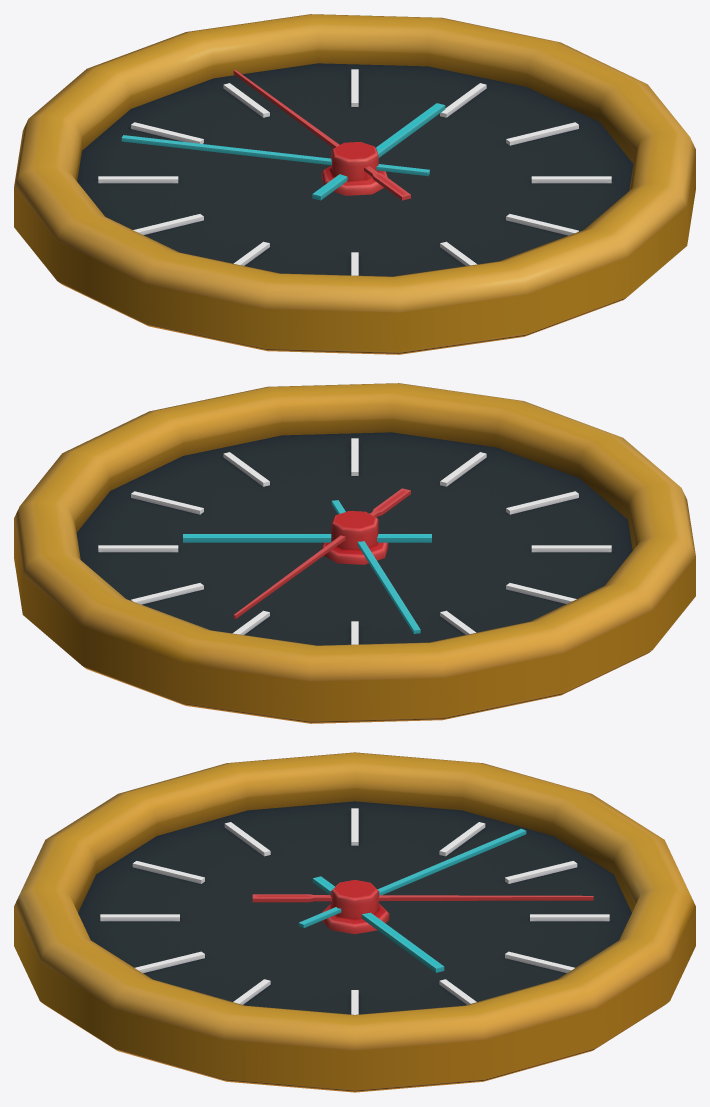
The model's file is Stylized Wall Clock.fbx.
3 renders of one model, top to bottom at view 1: azimuth 30°, elevation 25°; view 2: azimuth 150°, elevation 25°; view 3: azimuth 270°, elevation 25°, orthographic.
Parts seen in each view (by area): view 1: Clock Base_low, Clock Face_low, Center Hub_low, Minute Hand_low, Second Hand_low, Hour Hand_low; view 2: Clock Base_low, Clock Face_low, Center Hub_low, Hour Hand_low, Second Hand_low, Minute Hand_low; view 3: Clock Base_low, Clock Face_low, Center Hub_low, Second Hand_low, Minute Hand_low, Hour Hand_low.
Boxes of the visible parts, left/top/right/bottom form: Clock Base_low: left=14, top=14, right=695, bottom=354; Clock Face_low: left=98, top=69, right=611, bottom=275; Center Hub_low: left=321, top=142, right=387, bottom=195; Minute Hand_low: left=121, top=135, right=429, bottom=176; Second Hand_low: left=233, top=70, right=410, bottom=200; Hour Hand_low: left=312, top=103, right=445, bottom=200; Clock Base_low: left=14, top=383, right=695, bottom=723; Clock Face_low: left=98, top=438, right=611, bottom=644; Center Hub_low: left=321, top=511, right=388, bottom=564; Hour Hand_low: left=183, top=534, right=431, bottom=542; Second Hand_low: left=233, top=488, right=410, bottom=618; Minute Hand_low: left=331, top=500, right=420, bottom=633; Clock Base_low: left=14, top=752, right=695, bottom=1092; Clock Face_low: left=100, top=808, right=609, bottom=1014; Center Hub_low: left=321, top=880, right=389, bottom=934; Second Hand_low: left=252, top=894, right=593, bottom=902; Minute Hand_low: left=298, top=828, right=526, bottom=928; Hour Hand_low: left=312, top=876, right=444, bottom=972.
Size of the model in its own units: 200 by 20 by 200.
